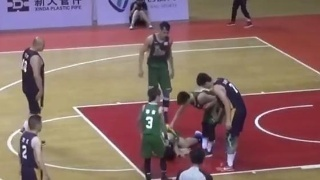falling: (160, 122, 214, 158)
